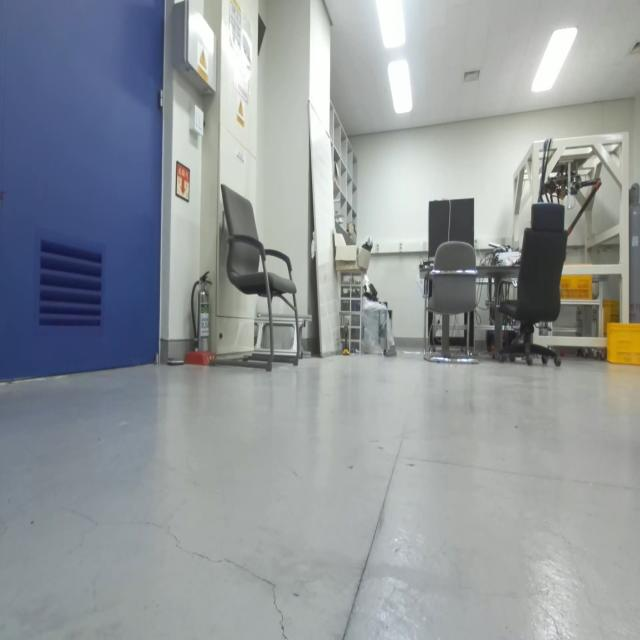crazyflie: (0, 188, 9, 210)
